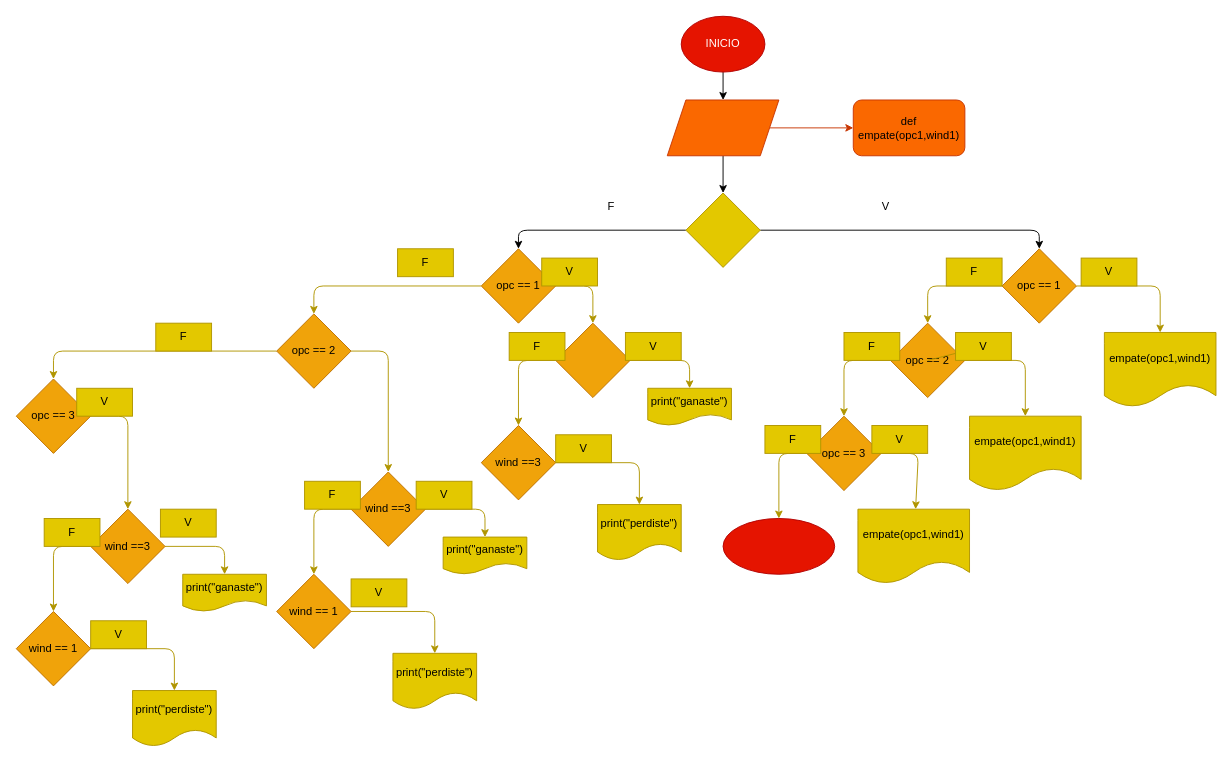
Some shapes in this 1232 by 763 pixel diagram are drawn without their labels. The shapes that lost their labels are listed below. From the top down, each one's box as (x1, y1, x2, y2) in pixels, then its label:
(666, 99, 779, 156): opc,wind
(685, 192, 760, 267): opc == wind
(555, 322, 630, 398): wind ==2
(722, 518, 835, 574): FIN
